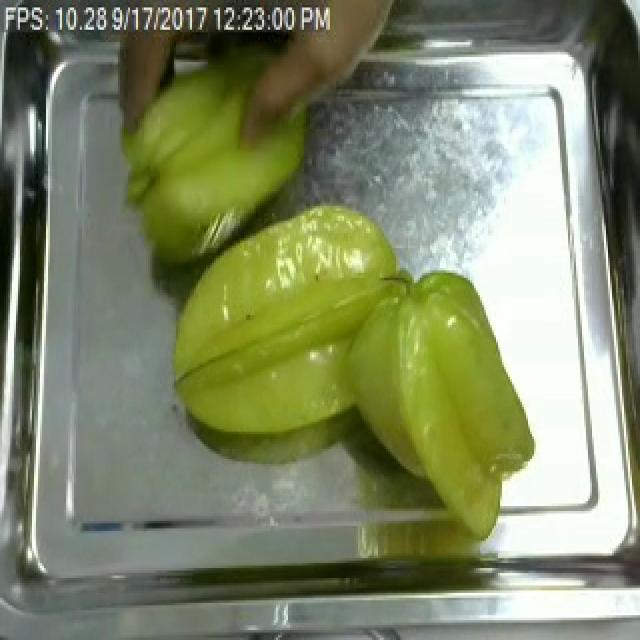fruit: (158, 194, 524, 452), (118, 25, 322, 278)
